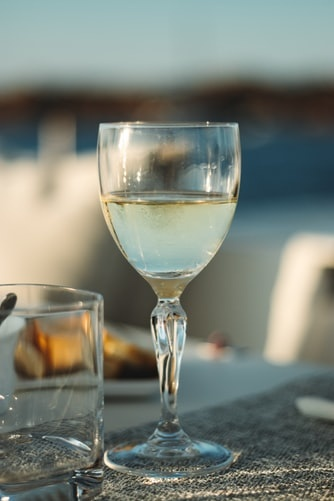whiskey: (103, 125, 246, 457)
